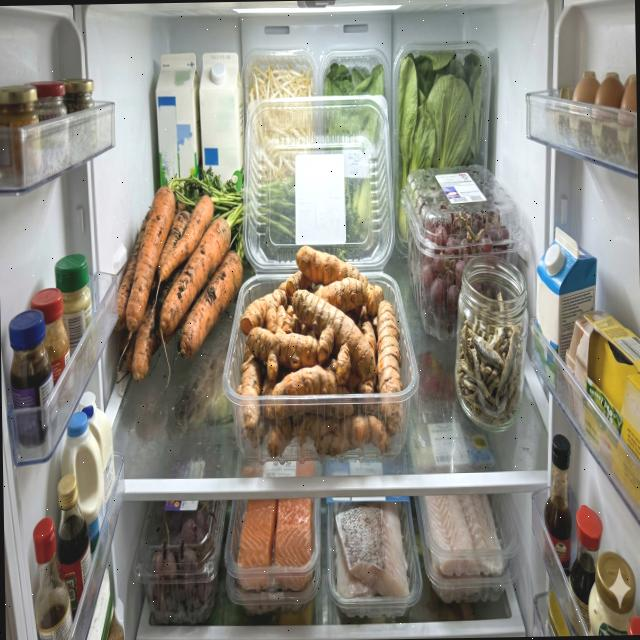anchovies: (455, 291, 524, 427)
bean_sprouts: (248, 64, 315, 184)
carrot: (115, 184, 245, 382)
egg: (558, 70, 638, 174)
fish: (236, 498, 314, 592), (334, 501, 409, 598), (424, 493, 503, 577)
grape: (400, 163, 528, 341), (131, 500, 229, 624)
pakchoy: (394, 51, 486, 241), (322, 63, 387, 243)
turmeric: (234, 243, 403, 459)
